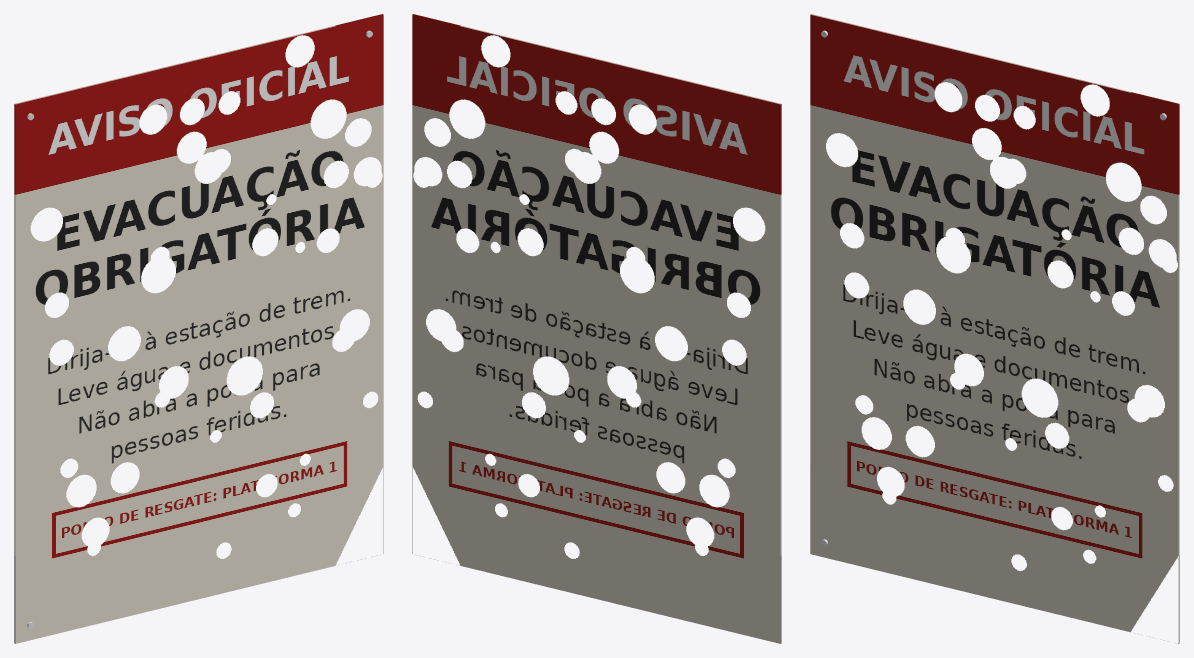
Rendered from cartaz_evacuacao.glb.
The picture shows the model from 3 angles, left to right: view 1: azimuth 30°, elevation 25°; view 2: azimuth 150°, elevation 25°; view 3: azimuth 330°, elevation 25°; orthographic projection.
Visible parts, largest first — view 1: cartaz_evacuacao_cartaz_evac; view 2: cartaz_evacuacao_cartaz_evac; view 3: cartaz_evacuacao_cartaz_evac.
Boxes of the visible parts, x1,y1,x2,y2 form: cartaz_evacuacao_cartaz_evac: (14,14,383,643); cartaz_evacuacao_cartaz_evac: (412,14,781,643); cartaz_evacuacao_cartaz_evac: (810,14,1179,643).
Bounding box in the file's own units: 0.5 × 0.7 × 0.005.
2 materials, 1 textured.
